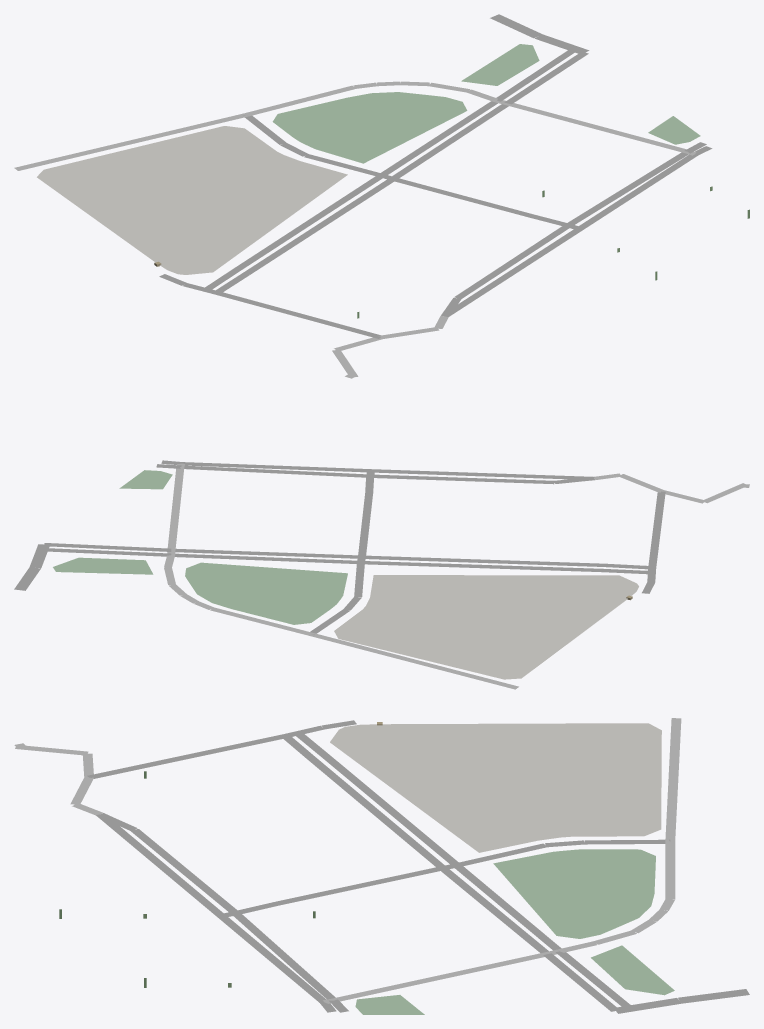
The picture shows the model from 3 angles, top to bottom: view 1: azimuth 30°, elevation 25°; view 2: azimuth 150°, elevation 25°; view 3: azimuth 270°, elevation 25°; orthographic projection. The views are drawn at different scales.
Bounding box in the file's own units: 505 × 13.3 × 522.
